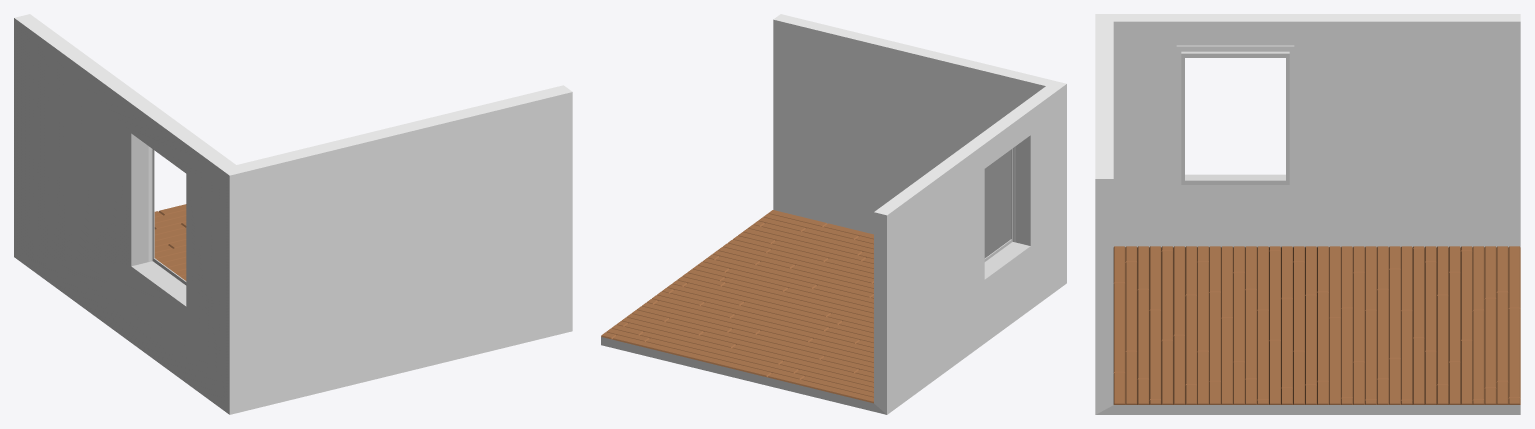
Rendered from room-structure.glb.
3 renders of one model, left to right at view 1: azimuth 30°, elevation 25°; view 2: azimuth 150°, elevation 25°; view 3: azimuth 270°, elevation 25°, orthographic. The views are drawn at different scales.
Parts seen in each view (by area): view 1: Wall, WallSide, Ground; view 2: WallSide, Wall, Ground, Floor; view 3: WallSide, Ground, Wall, Floor.
Part boxes in pixels (x1,y1,x2,y2): Wall: (229, 85, 572, 414); WallSide: (14, 14, 236, 414); Ground: (154, 204, 186, 280); WallSide: (874, 84, 1066, 414); Wall: (773, 14, 1066, 258); Ground: (601, 210, 873, 403); Floor: (601, 337, 886, 414); WallSide: (1096, 14, 1520, 247); Ground: (1113, 246, 1520, 404); Wall: (1095, 14, 1113, 414); Floor: (1096, 405, 1520, 414).
Size of the model in its own units: 3.24 by 2.16 by 3.53.
